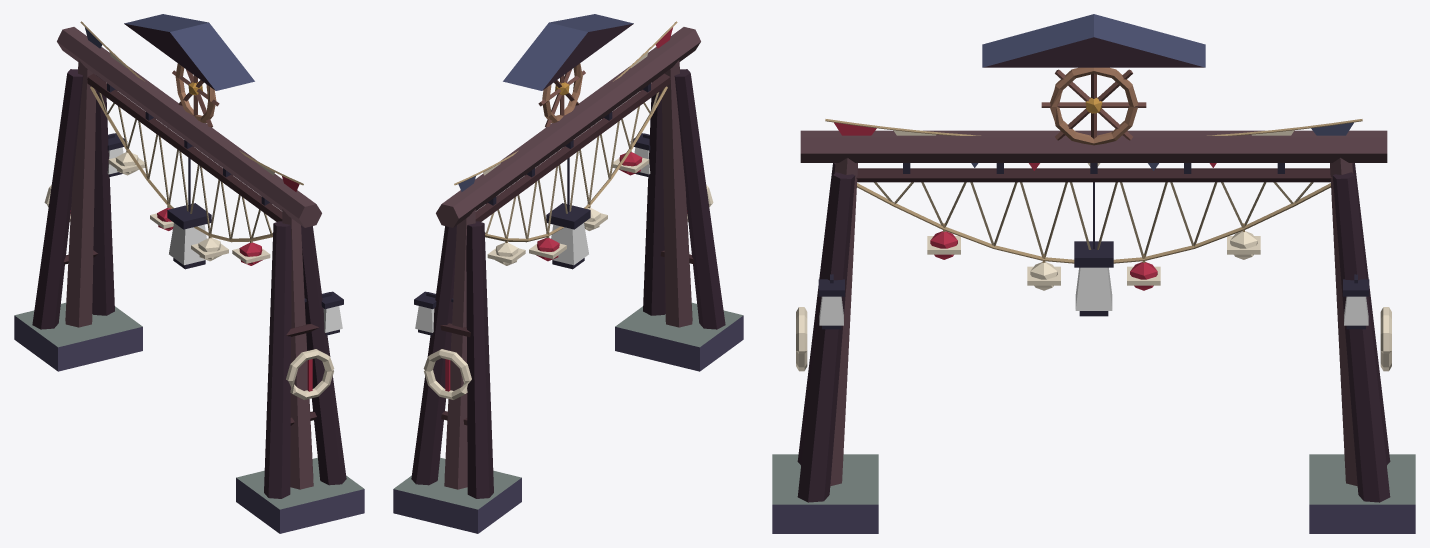
The model's file is Fair_BuoyArch.fbx.
The picture shows the model from 3 angles, left to right: view 1: azimuth 30°, elevation 25°; view 2: azimuth 150°, elevation 25°; view 3: azimuth 270°, elevation 25°; orthographic projection. The views are drawn at different scales.
Visible parts, largest first — view 1: Fair_BuoyArch; view 2: Fair_BuoyArch; view 3: Fair_BuoyArch.
Part boxes in pixels (bbox=[...]): Fair_BuoyArch: bbox=[14, 14, 364, 533]; Fair_BuoyArch: bbox=[393, 14, 743, 533]; Fair_BuoyArch: bbox=[772, 14, 1415, 533].
Size of what is drawn, in the model's own units: 1.9 by 8.54 by 10.3.
Materials: 2 (1 with a texture image).
